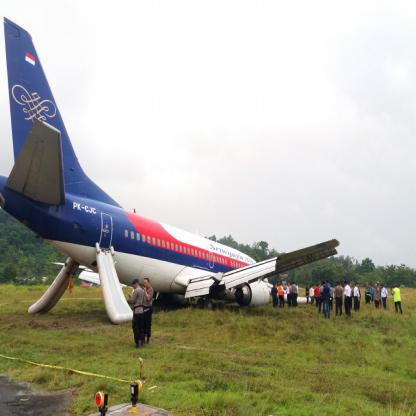CIV_Plane: (0, 14, 344, 338)
